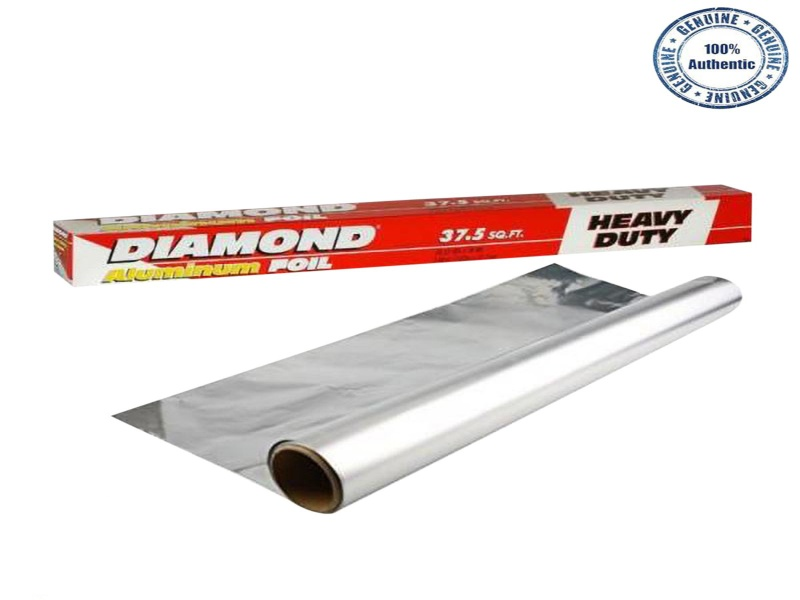Aluminium_Foil: (117, 262, 785, 517), (144, 336, 619, 512), (390, 258, 747, 359)
